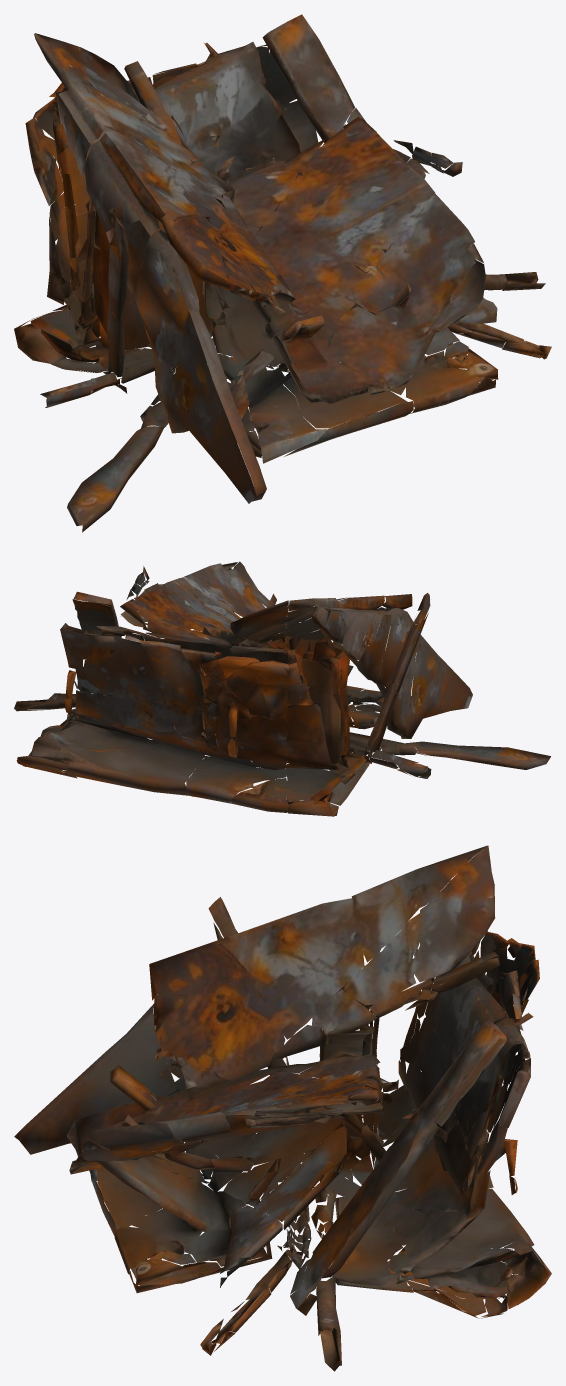
The model's file is scrap_metal.glb.
3 renders of one model, top to bottom at view 1: azimuth 30°, elevation 25°; view 2: azimuth 150°, elevation 25°; view 3: azimuth 270°, elevation 25°, orthographic. The views are drawn at different scales.
Visible parts, largest first — view 1: tripo_node_6e73c637-e522-457b-97f1-059ff60cd965; view 2: tripo_node_6e73c637-e522-457b-97f1-059ff60cd965; view 3: tripo_node_6e73c637-e522-457b-97f1-059ff60cd965.
Boxes of the visible parts, <box> form: tripo_node_6e73c637-e522-457b-97f1-059ff60cd965: <box>14,14,551,532</box>; tripo_node_6e73c637-e522-457b-97f1-059ff60cd965: <box>14,561,550,816</box>; tripo_node_6e73c637-e522-457b-97f1-059ff60cd965: <box>14,845,551,1371</box>.
Bounding box in the file's own units: 0.9966 × 0.5238 × 0.784.
Materials: 1 (1 with a texture image).
